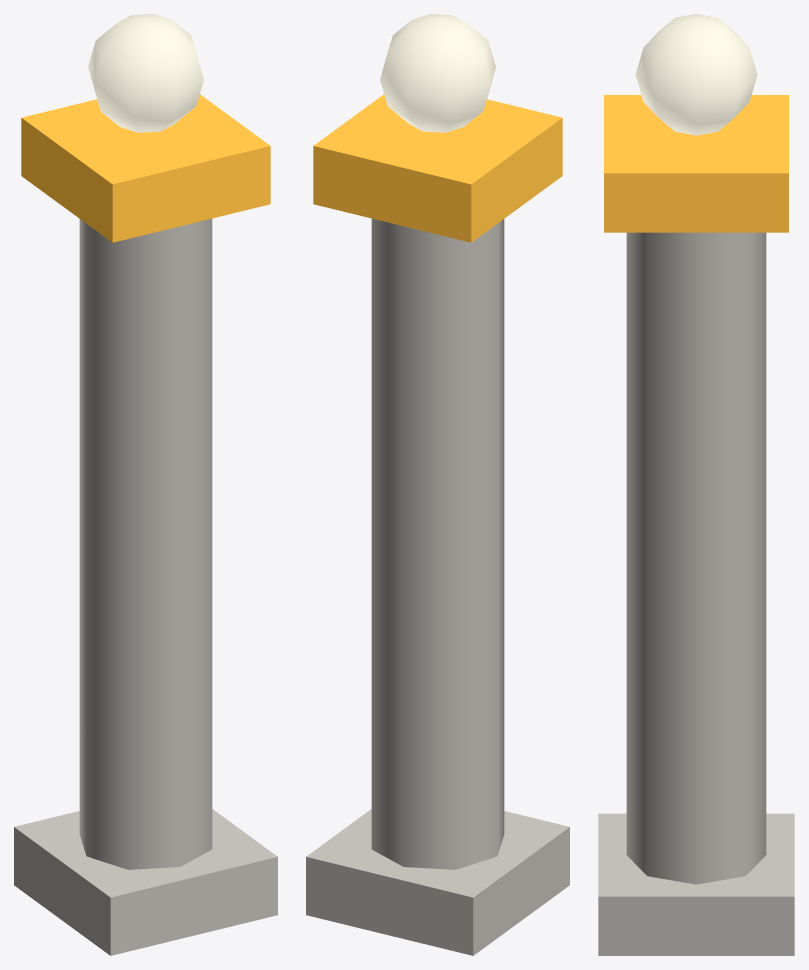
File: gold-column.glb
3 renders of one model, left to right at view 1: azimuth 30°, elevation 25°; view 2: azimuth 150°, elevation 25°; view 3: azimuth 270°, elevation 25°, orthographic.
Visible parts, largest first — view 1: stairway gold-column; view 2: stairway gold-column; view 3: stairway gold-column.
Boxes of the visible parts, box(x1,y1,x2,y2) form: stairway gold-column: box(14, 14, 277, 955); stairway gold-column: box(306, 14, 569, 955); stairway gold-column: box(598, 14, 794, 955).
Size of the model in its own units: 0.9 by 4.53 by 0.9.
